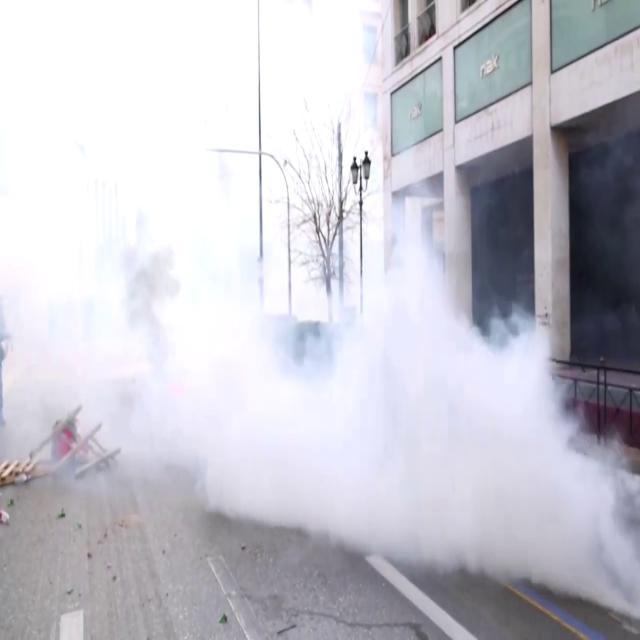Smoke: (3, 183, 636, 640)
